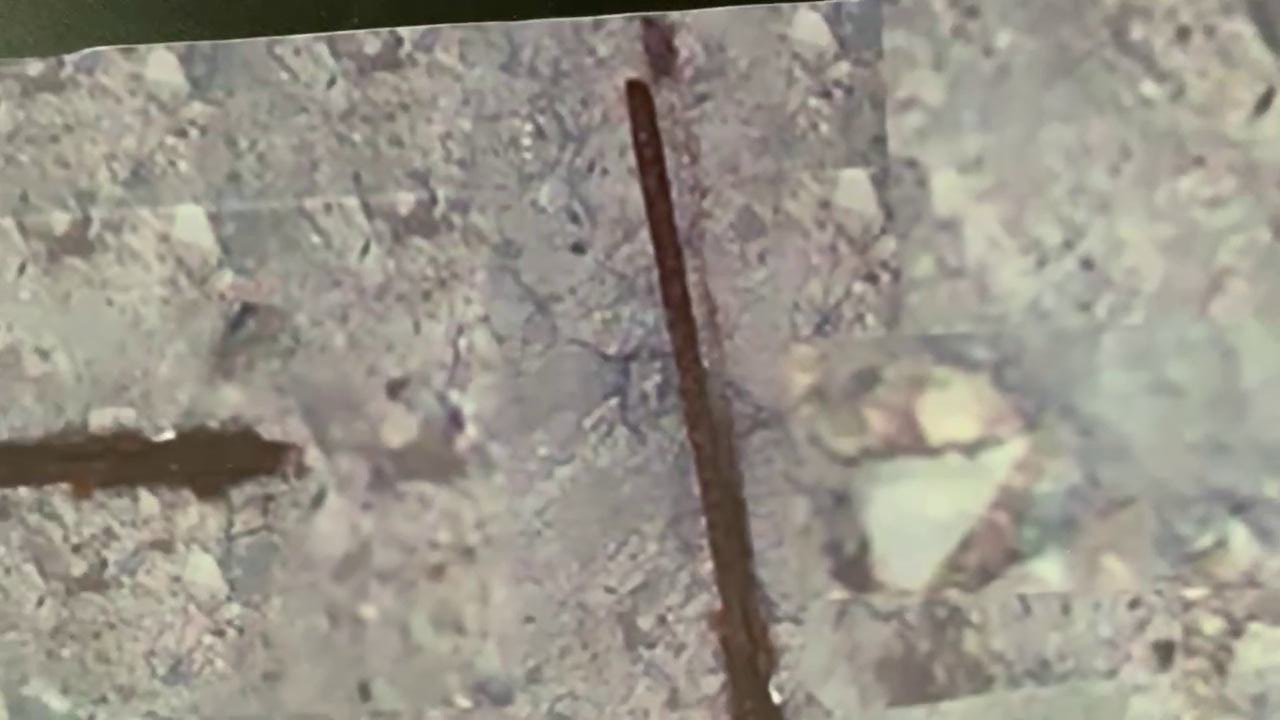Exposed reinforcement: (626, 80, 784, 720), (1, 424, 298, 501)
